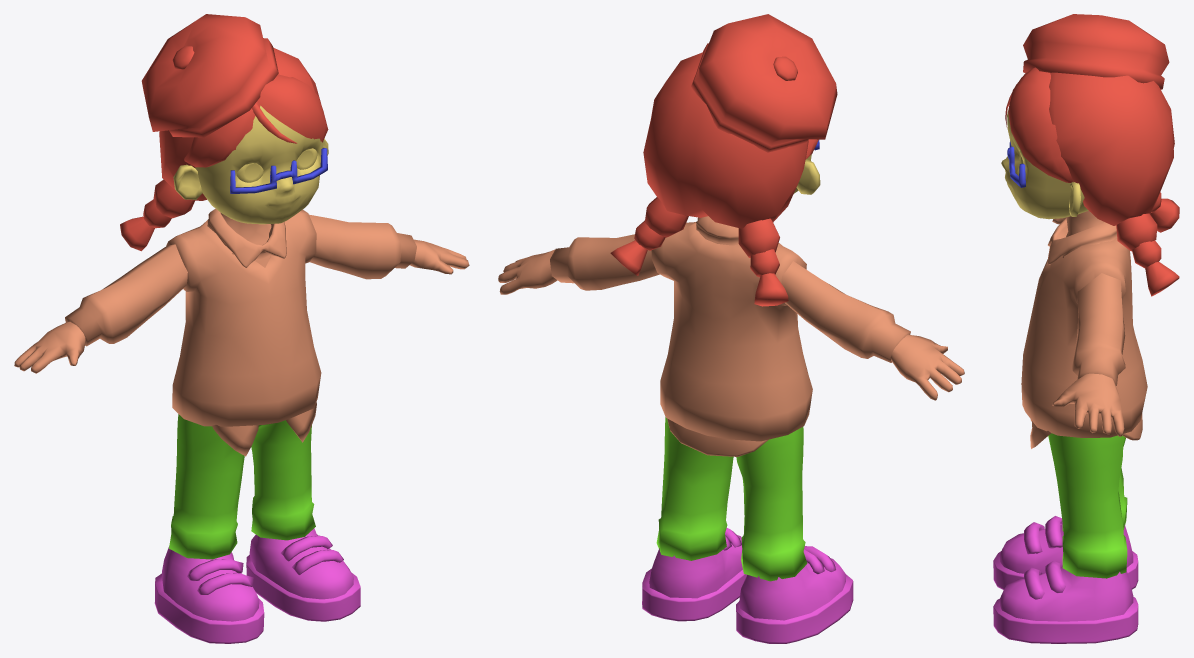
The model's file is re_female_student_character_modeling_l.fbx.
3 views of the same model, side by side, from view 1: azimuth 30°, elevation 25°; view 2: azimuth 150°, elevation 25°; view 3: azimuth 270°, elevation 25° (orthographic). The views are drawn at different scales.
Parts seen in each view (by area): view 1: knit_shirt_l, hair1_l, shoes1_l, jeans1_l, face_l, shoes1_l.001; view 2: knit_shirt_l, hair1_l, jeans1_l, shoes1_l; view 3: hair1_l, knit_shirt_l, shoes1_l, jeans1_l, face_l, shoes1_l.001.
Boxes of the visible parts, <box> form: knit_shirt_l: <box>14,208,469,456</box>; hair1_l: <box>120,14,328,251</box>; shoes1_l: <box>154,528,360,643</box>; jeans1_l: <box>169,414,315,559</box>; face_l: <box>173,105,328,224</box>; shoes1_l.001: <box>230,147,327,193</box>; knit_shirt_l: <box>498,216,964,456</box>; hair1_l: <box>610,14,837,306</box>; jeans1_l: <box>656,417,807,581</box>; shoes1_l: <box>642,528,853,643</box>; hair1_l: <box>1005,14,1179,296</box>; knit_shirt_l: <box>1021,210,1147,448</box>; shoes1_l: <box>993,516,1138,643</box>; jeans1_l: <box>1048,433,1127,578</box>; face_l: <box>1001,109,1088,219</box>; shoes1_l.001: <box>1007,141,1025,187</box>.
Bounding box in the file's own units: 199 × 245 × 71.78.
